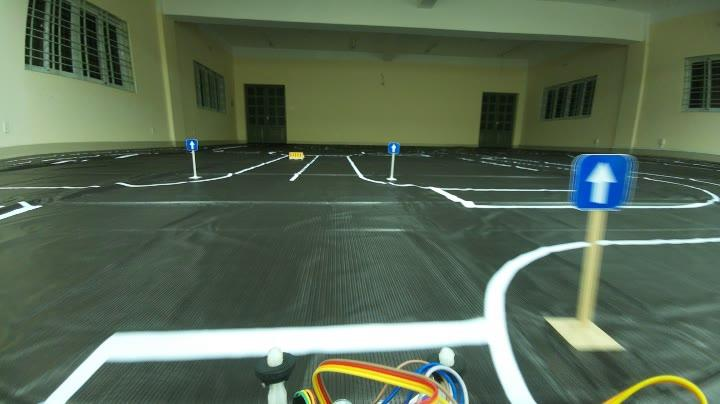onewayroad: (572, 150, 634, 206), (384, 139, 402, 154), (184, 137, 199, 150)
roadblock: (284, 150, 306, 162)
